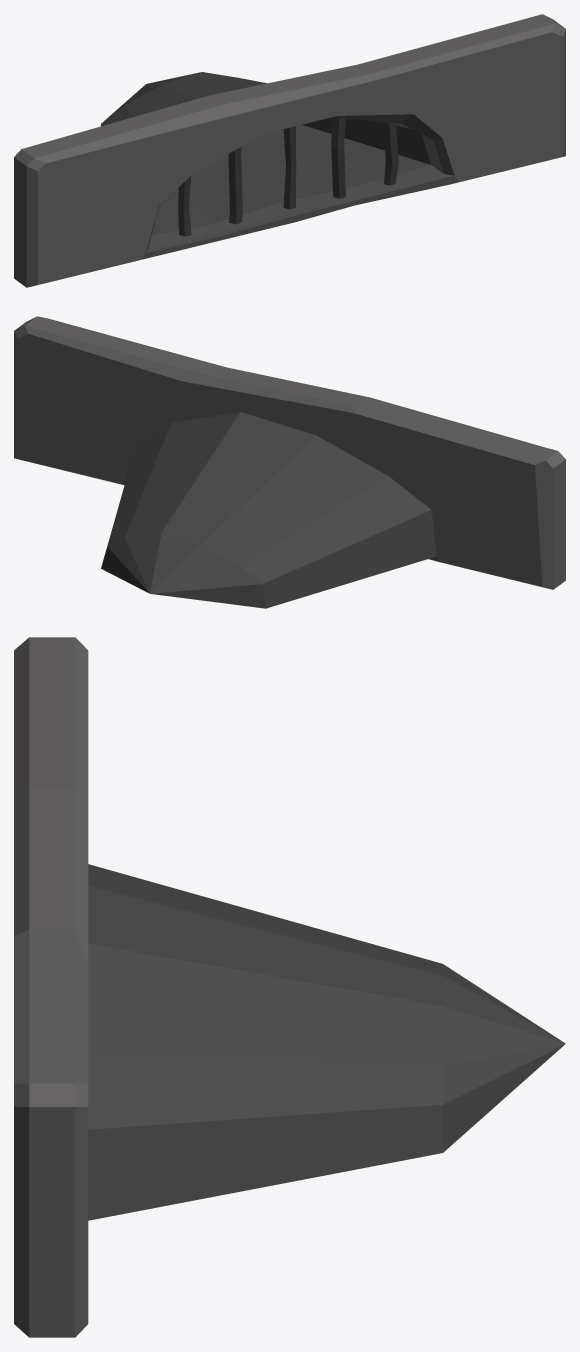
The model's file is SM_Env_Sewer_Canal_Drain_02.FBX.
3 views of the same model, one above another, from view 1: azimuth 30°, elevation 25°; view 2: azimuth 150°, elevation 25°; view 3: azimuth 270°, elevation 25° (orthographic). The views are drawn at different scales.
Parts seen in each view (by area): view 1: SM_Env_Sewer_Canal_Drain_02; view 2: SM_Env_Sewer_Canal_Drain_02; view 3: SM_Env_Sewer_Canal_Drain_02.
Part boxes in pixels (x1,y1,x2,y2): SM_Env_Sewer_Canal_Drain_02: (14,14,565,287); SM_Env_Sewer_Canal_Drain_02: (14,316,565,608); SM_Env_Sewer_Canal_Drain_02: (14,637,565,1337).
Size of what is drawn, in the model's own units: 477 by 234 by 114.
